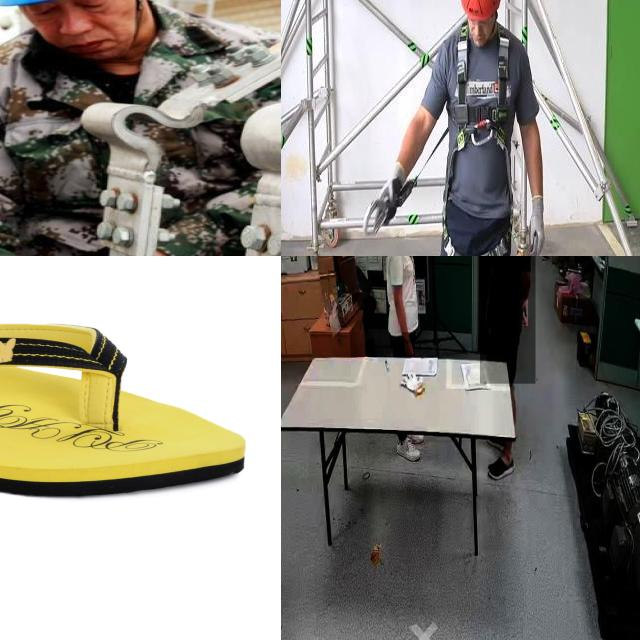Harness: (451, 26, 510, 154)
No_Glasses: (68, 0, 117, 26)
Sandals: (0, 307, 247, 499)
hand_noglove: (401, 332, 413, 357), (520, 299, 528, 327)
person: (480, 256, 536, 384), (378, 256, 422, 354)
shoes: (481, 446, 517, 484), (392, 432, 422, 462)
